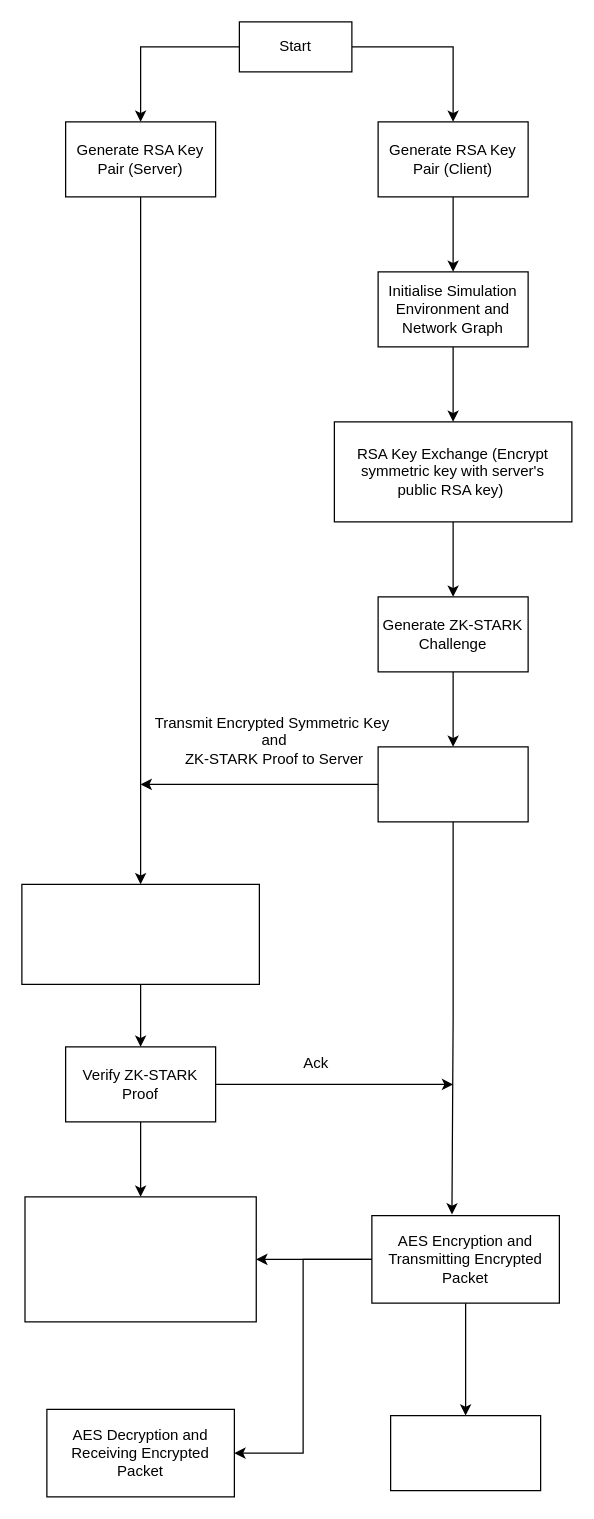
Image size: 594x1519. Some labels were removed from this diagram. Each missing label, with the centre of its shape:
"AES Decryption" belongs at (x=465, y=1452).
"Generate ZK-STARK Proof" belongs at (x=452, y=784).
"Receive Encrypted Symmetric Key and ZK-STARK Proof" belongs at (x=140, y=1259).
"RSA Key Exchange ( Decrypt symmetric key with server's private RSA Key)" belongs at (x=140, y=933).
